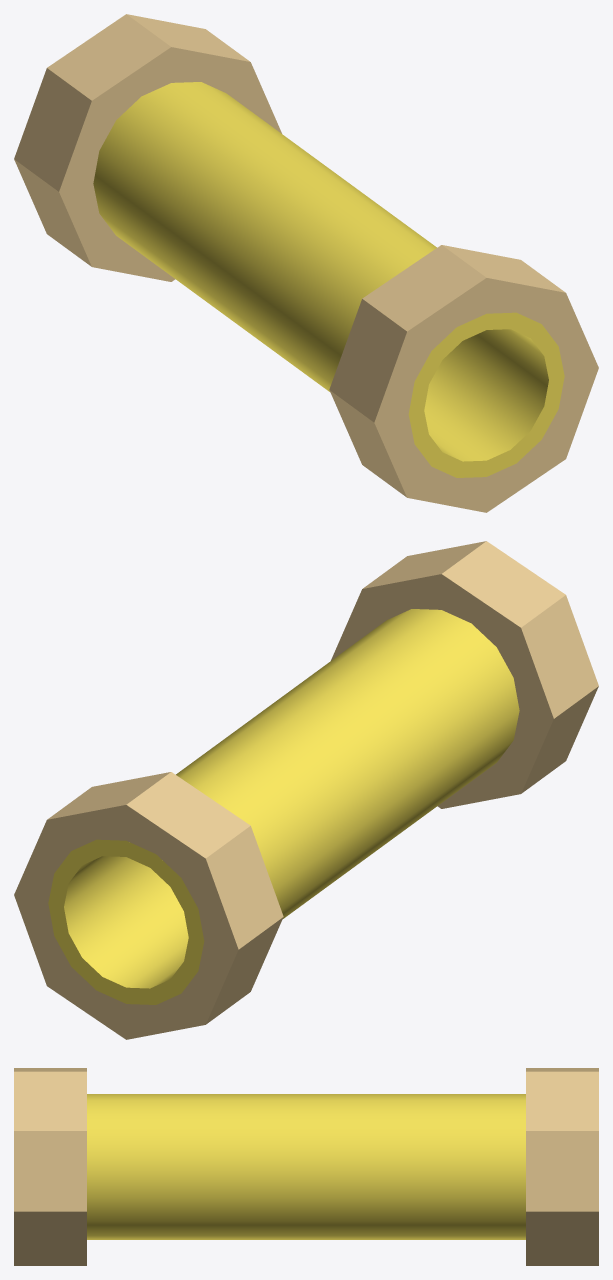
File: pipe_2m.fbx
The picture shows the model from 3 angles, top to bottom: view 1: azimuth 30°, elevation 25°; view 2: azimuth 150°, elevation 25°; view 3: azimuth 270°, elevation 25°; orthographic projection. The views are drawn at different scales.
Parts seen in each view (by area): view 1: Vert.006, Vert.032, Vert.007; view 2: Vert.006, Vert.007, Vert.032; view 3: Vert.006, Vert.032, Vert.007.
Part boxes in pixels (x1=…): Vert.006: x1=93, y1=82, x2=564, y2=477; Vert.032: x1=329, y1=245, x2=598, y2=512; Vert.007: x1=14, y1=14, x2=281, y2=281; Vert.006: x1=48, y1=609, x2=519, y2=1004; Vert.007: x1=14, y1=772, x2=283, y2=1039; Vert.032: x1=331, y1=541, x2=598, y2=808; Vert.006: x1=87, y1=1094, x2=525, y2=1239; Vert.032: x1=14, y1=1068, x2=86, y2=1265; Vert.007: x1=526, y1=1068, x2=598, y2=1265.
Size of the model in its own units: 72 by 72 by 200.
